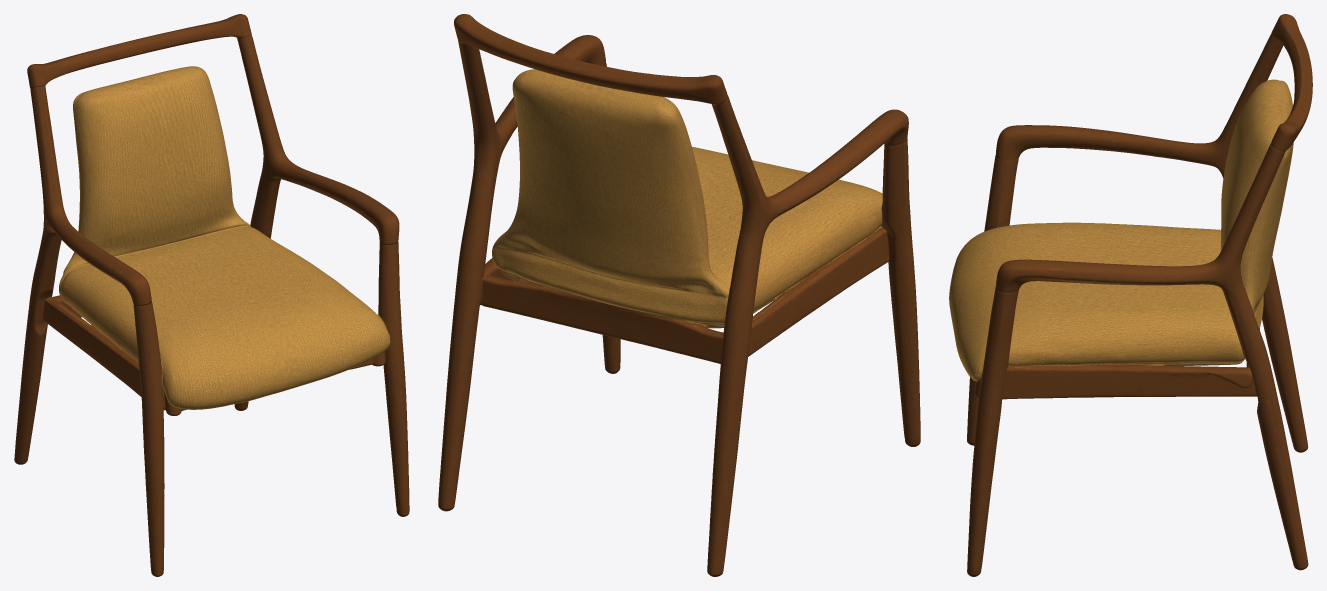
Rendered from meshy-12.glb.
3 renders of one model, left to right at view 1: azimuth 30°, elevation 25°; view 2: azimuth 150°, elevation 25°; view 3: azimuth 270°, elevation 25°, orthographic. The views are drawn at different scales.
Visible parts, largest first — view 1: RealScale; view 2: RealScale; view 3: RealScale.
Part boxes in pixels (x1,y1,x2,y2): RealScale: (14, 14, 409, 576); RealScale: (438, 14, 920, 576); RealScale: (949, 14, 1312, 576).
Size of the model in its own units: 0.6247 by 0.88 by 0.6584.
Materials: 1 (1 with a texture image).
